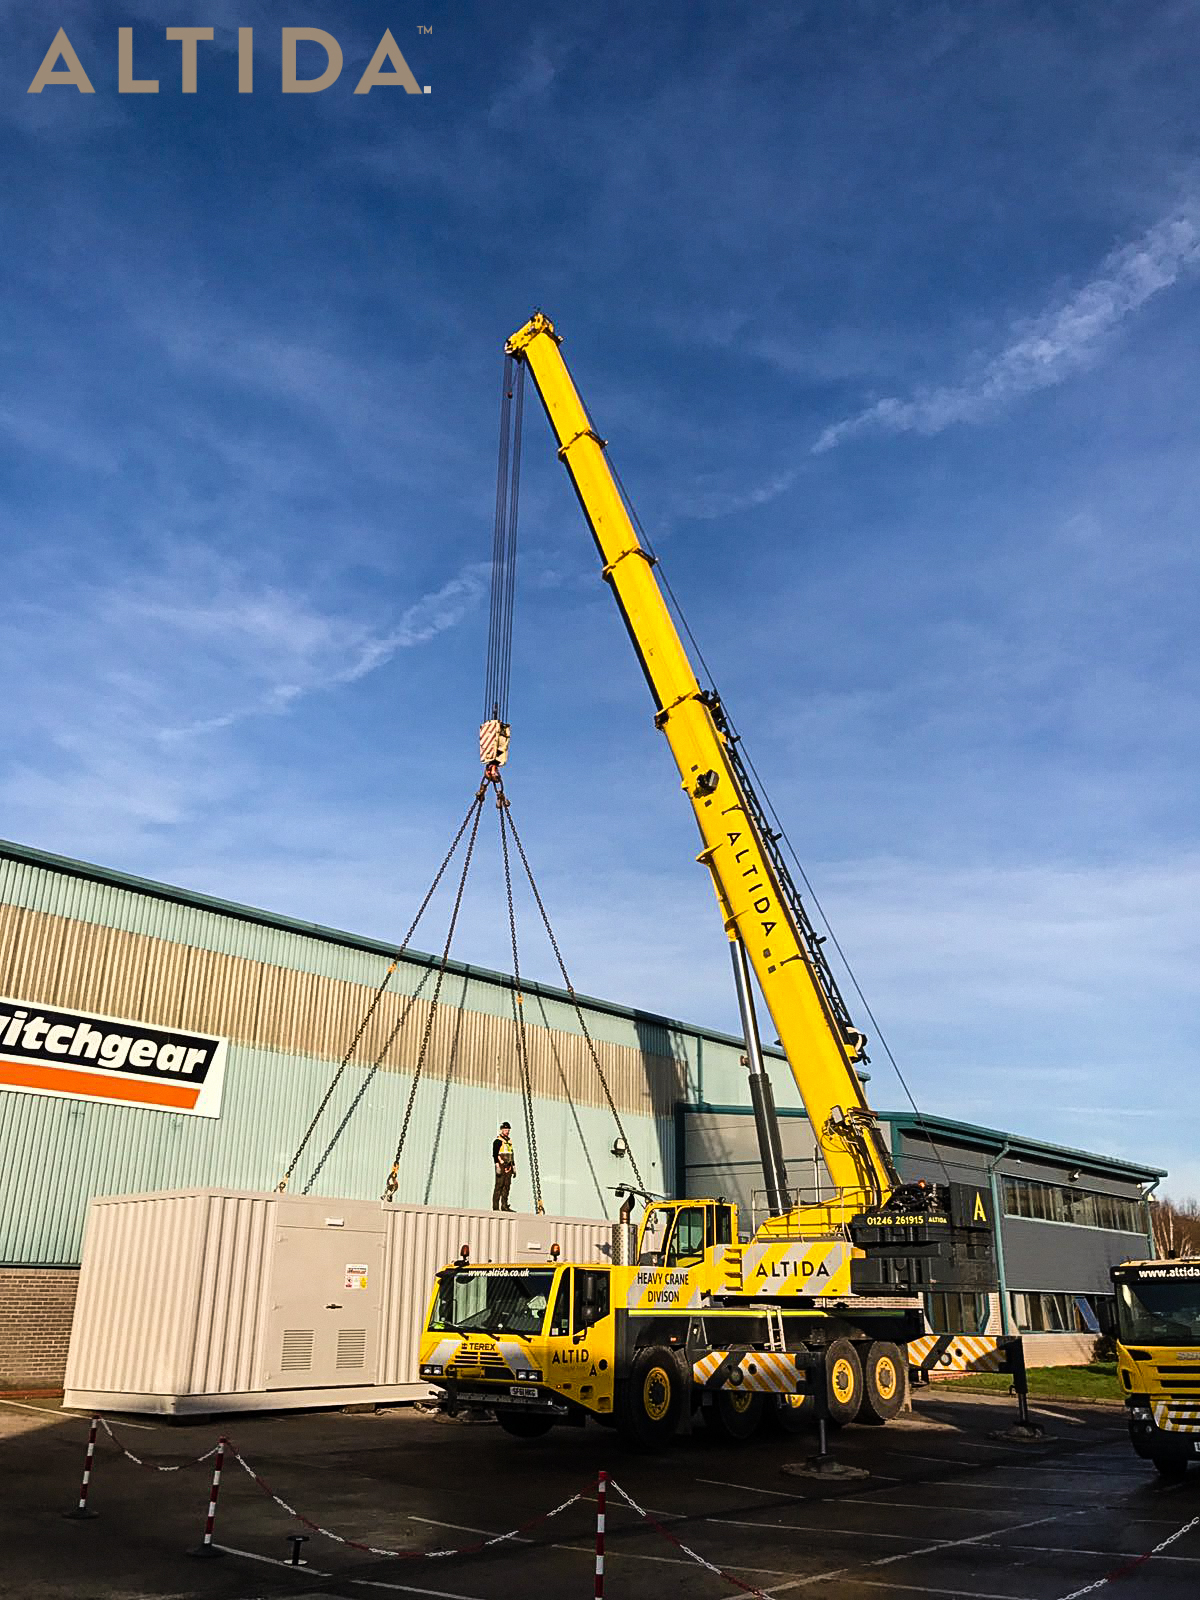crane: (432, 304, 953, 1440)
